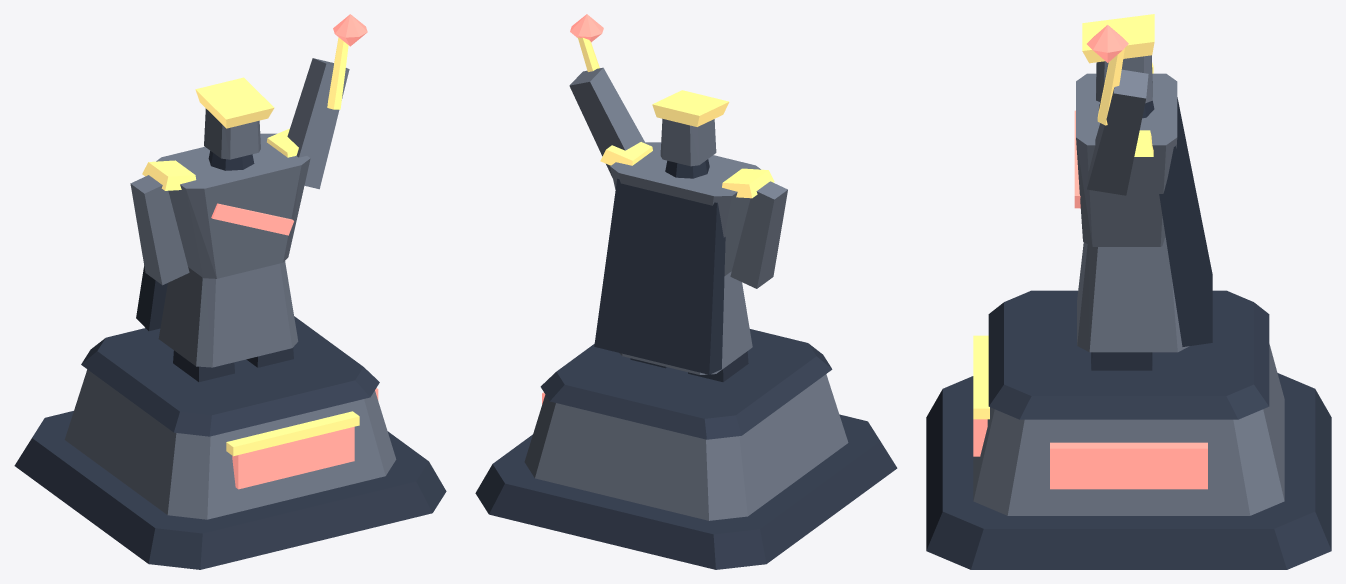
Rendered from propaganda_statue.glb.
3 views of the same model, side by side, from view 1: azimuth 30°, elevation 25°; view 2: azimuth 150°, elevation 25°; view 3: azimuth 270°, elevation 25° (orthographic). The views are drawn at different scales.
Visible parts, largest first — view 1: Surf_stone, Surf_dark, Surf_brass, Surf_TEAM; view 2: Surf_dark, Surf_stone, Surf_brass, Surf_TEAM; view 3: Surf_dark, Surf_stone, Surf_TEAM, Surf_brass.
Part boxes in pixels (<box>): Surf_stone: <box>64,58,396,519</box>; Surf_dark: <box>14,151,446,569</box>; Surf_brass: <box>142,37,359,456</box>; Surf_TEAM: <box>211,14,378,489</box>; Surf_dark: <box>475,159,897,569</box>; Surf_stone: <box>524,67,848,520</box>; Surf_brass: <box>577,37,774,198</box>; Surf_TEAM: <box>542,14,603,404</box>; Surf_dark: <box>926,97,1331,569</box>; Surf_stone: <box>973,55,1284,515</box>; Surf_TEAM: <box>973,25,1207,489</box>; Surf_brass: <box>973,14,1154,419</box>.
Bounding box in the file's own units: 3.44 × 4.9 × 3.44.
